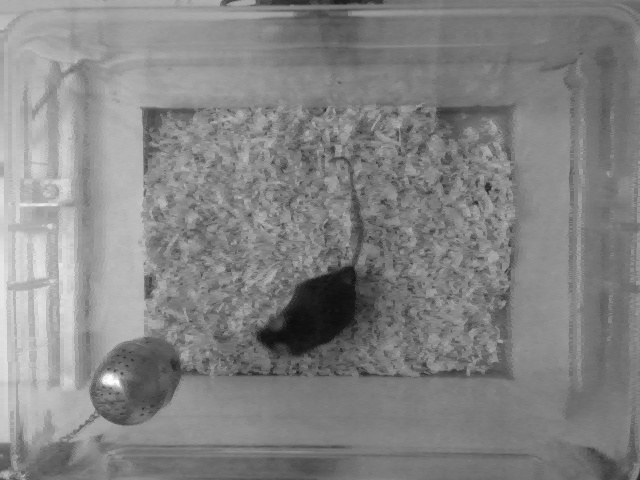mice: (252, 155, 365, 363)
